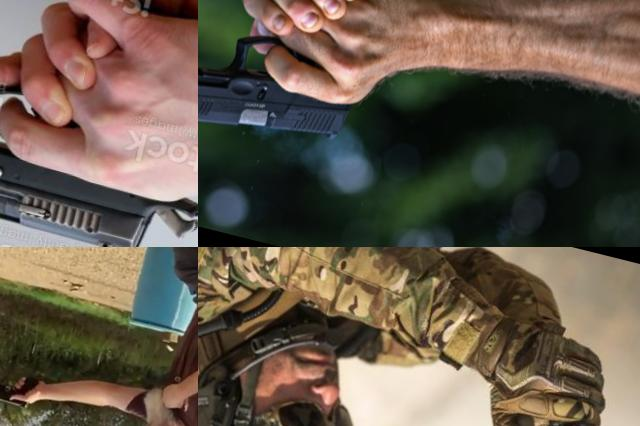handgun: (0, 25, 198, 247), (198, 9, 371, 167), (501, 390, 636, 426), (0, 363, 42, 412)
